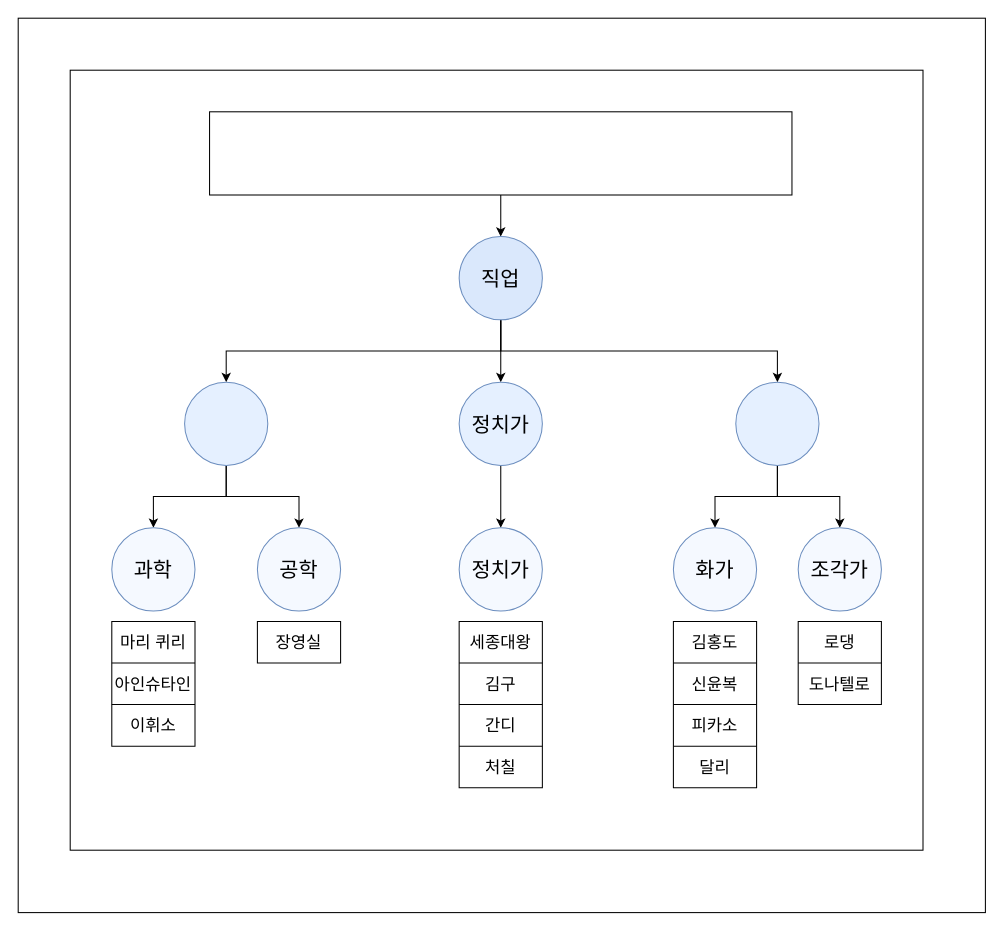
Some shapes in this 1004 by 931 pixel diagram are drawn without their labels. Here are the shapes that lost their labels. From the top down, the centre of each, then its label:
the point at 500,153: 마리 퀴리, 아인슈타인, 이휘소, 장영실, 간디, 처칠, 세종대왕, 김구, 피카소, 살바도르 달리, 김홍도, 신윤복, 로댕, 도나텔로
the point at 226,423: 과학자
the point at 777,423: 예술가
